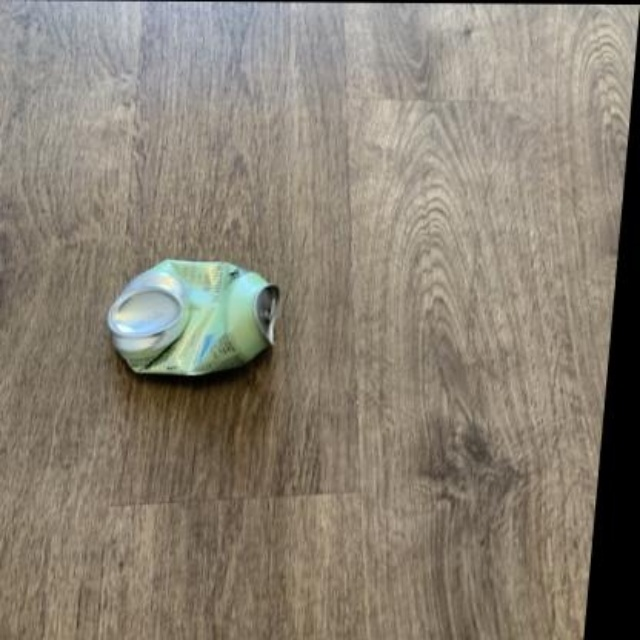trash: (106, 260, 277, 374)
